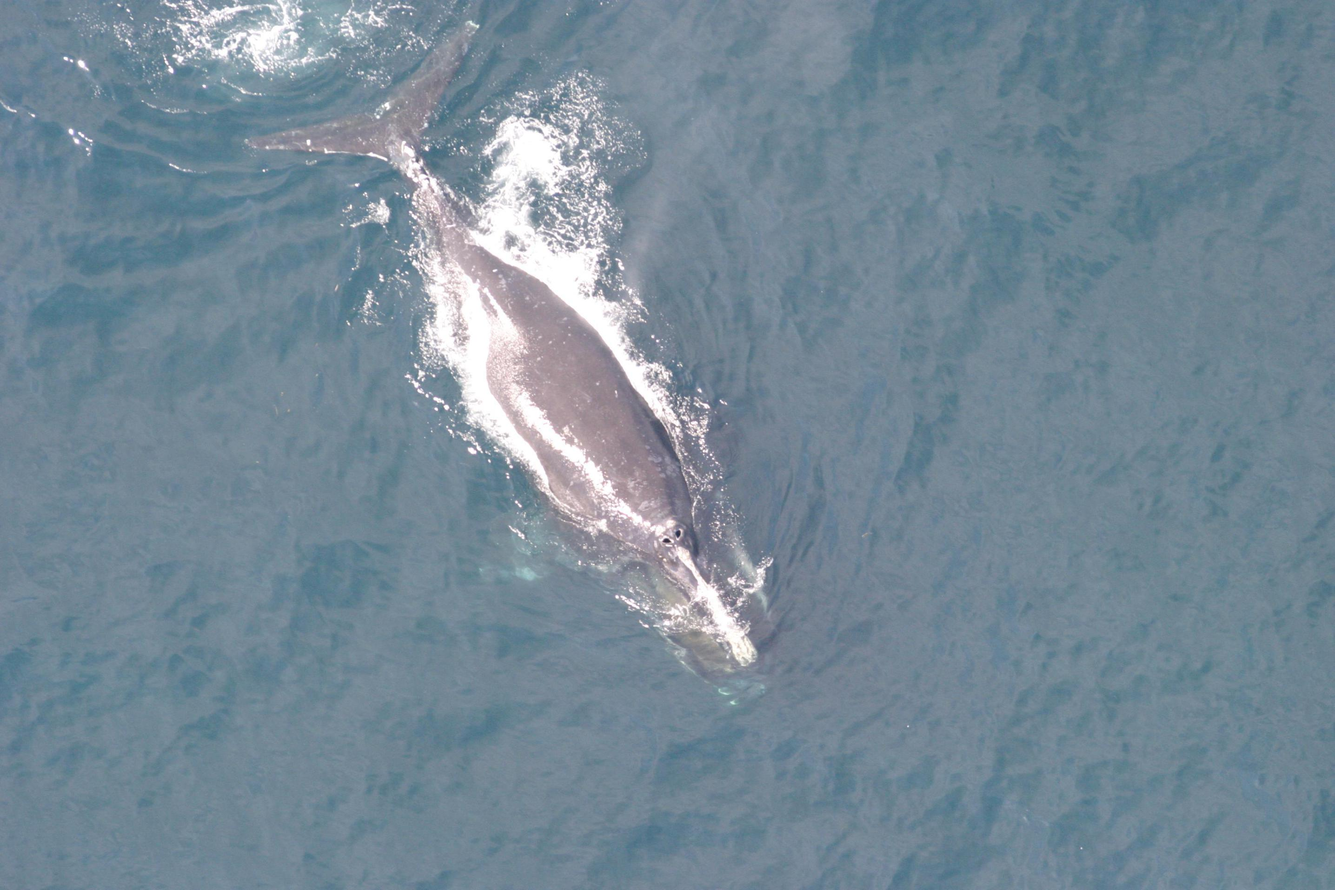whale: (230, 11, 784, 711)
